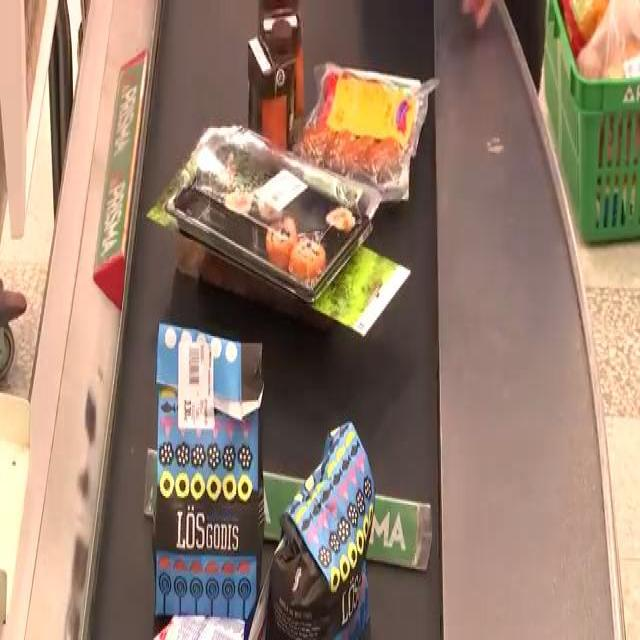beverage: (247, 26, 301, 148), (260, 4, 304, 110)
food-box: (172, 116, 382, 286), (309, 80, 429, 181)
utility-box: (146, 285, 271, 627), (268, 440, 376, 639)
